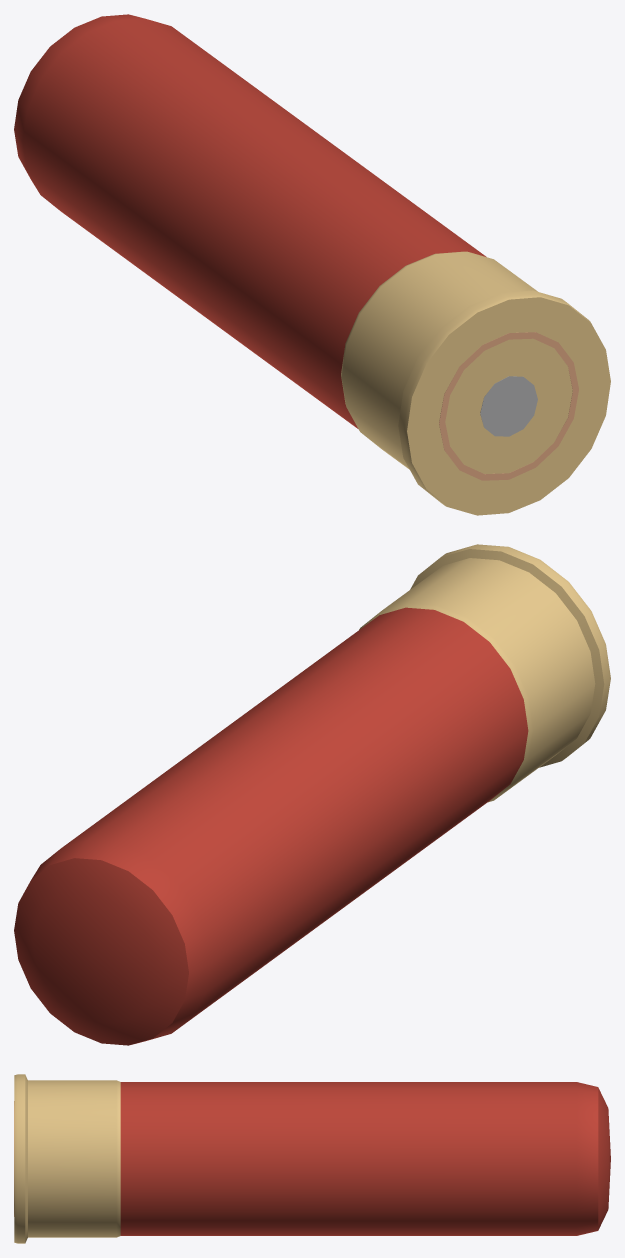
File: shell_12ga.glb
3 views of the same model, one above another, from view 1: azimuth 30°, elevation 25°; view 2: azimuth 150°, elevation 25°; view 3: azimuth 270°, elevation 25° (orthographic). The views are drawn at different scales.
Visible parts, largest first — view 1: body; view 2: body; view 3: body.
Boxes of the visible parts, x1,y1,x2,y2 form: body: (14, 14, 610, 515); body: (14, 544, 610, 1045); body: (14, 1074, 610, 1243).
Bounding box in the file's own units: 0.02 × 0.02 × 0.07.
